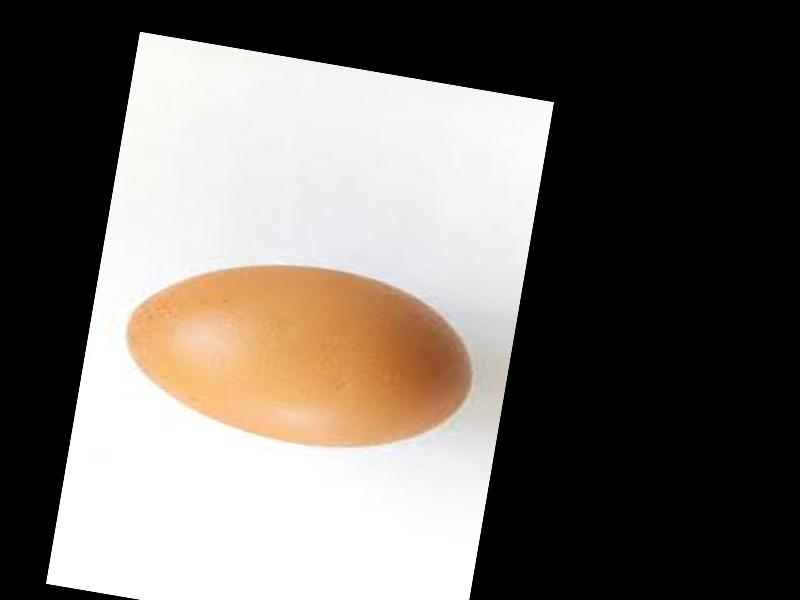Eggs: (113, 237, 483, 468)
